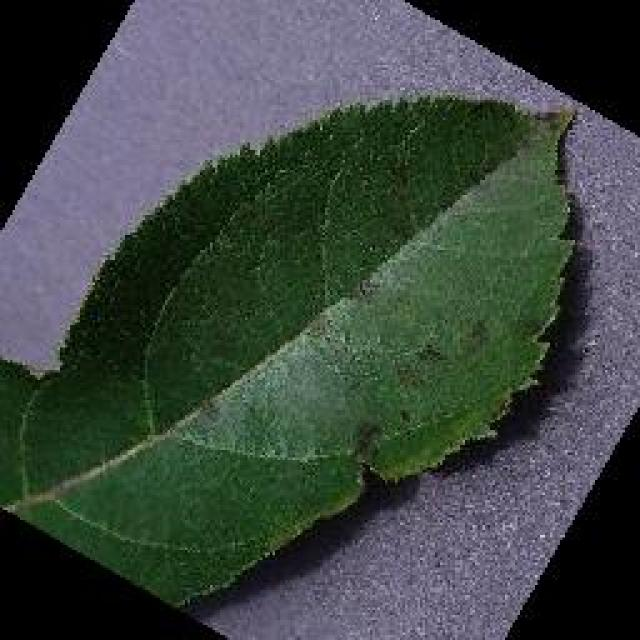apple scab disease: (0, 87, 582, 610)
